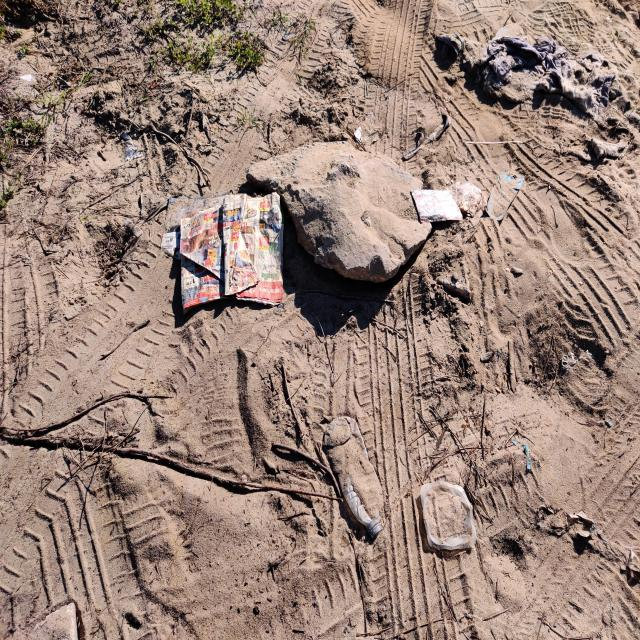litter: (434, 24, 623, 128), (159, 191, 284, 314), (534, 504, 640, 585), (319, 415, 385, 539), (419, 479, 477, 552), (402, 113, 453, 162), (406, 188, 463, 224), (485, 172, 525, 221), (449, 178, 486, 217), (511, 433, 534, 474), (354, 113, 380, 147), (123, 219, 145, 238)
